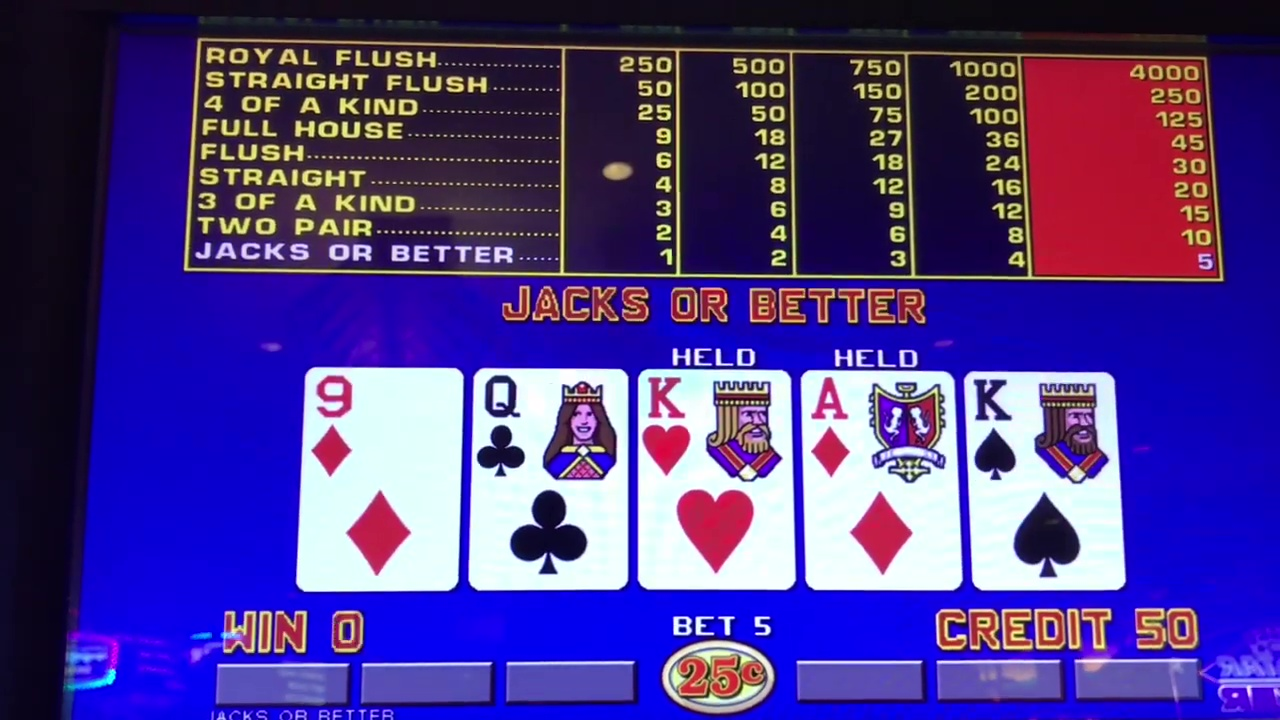CQ: (472, 371, 631, 592)
D9: (304, 371, 458, 591)
DA: (803, 371, 957, 587)
HK: (638, 370, 795, 590)
SK: (969, 370, 1122, 587)
